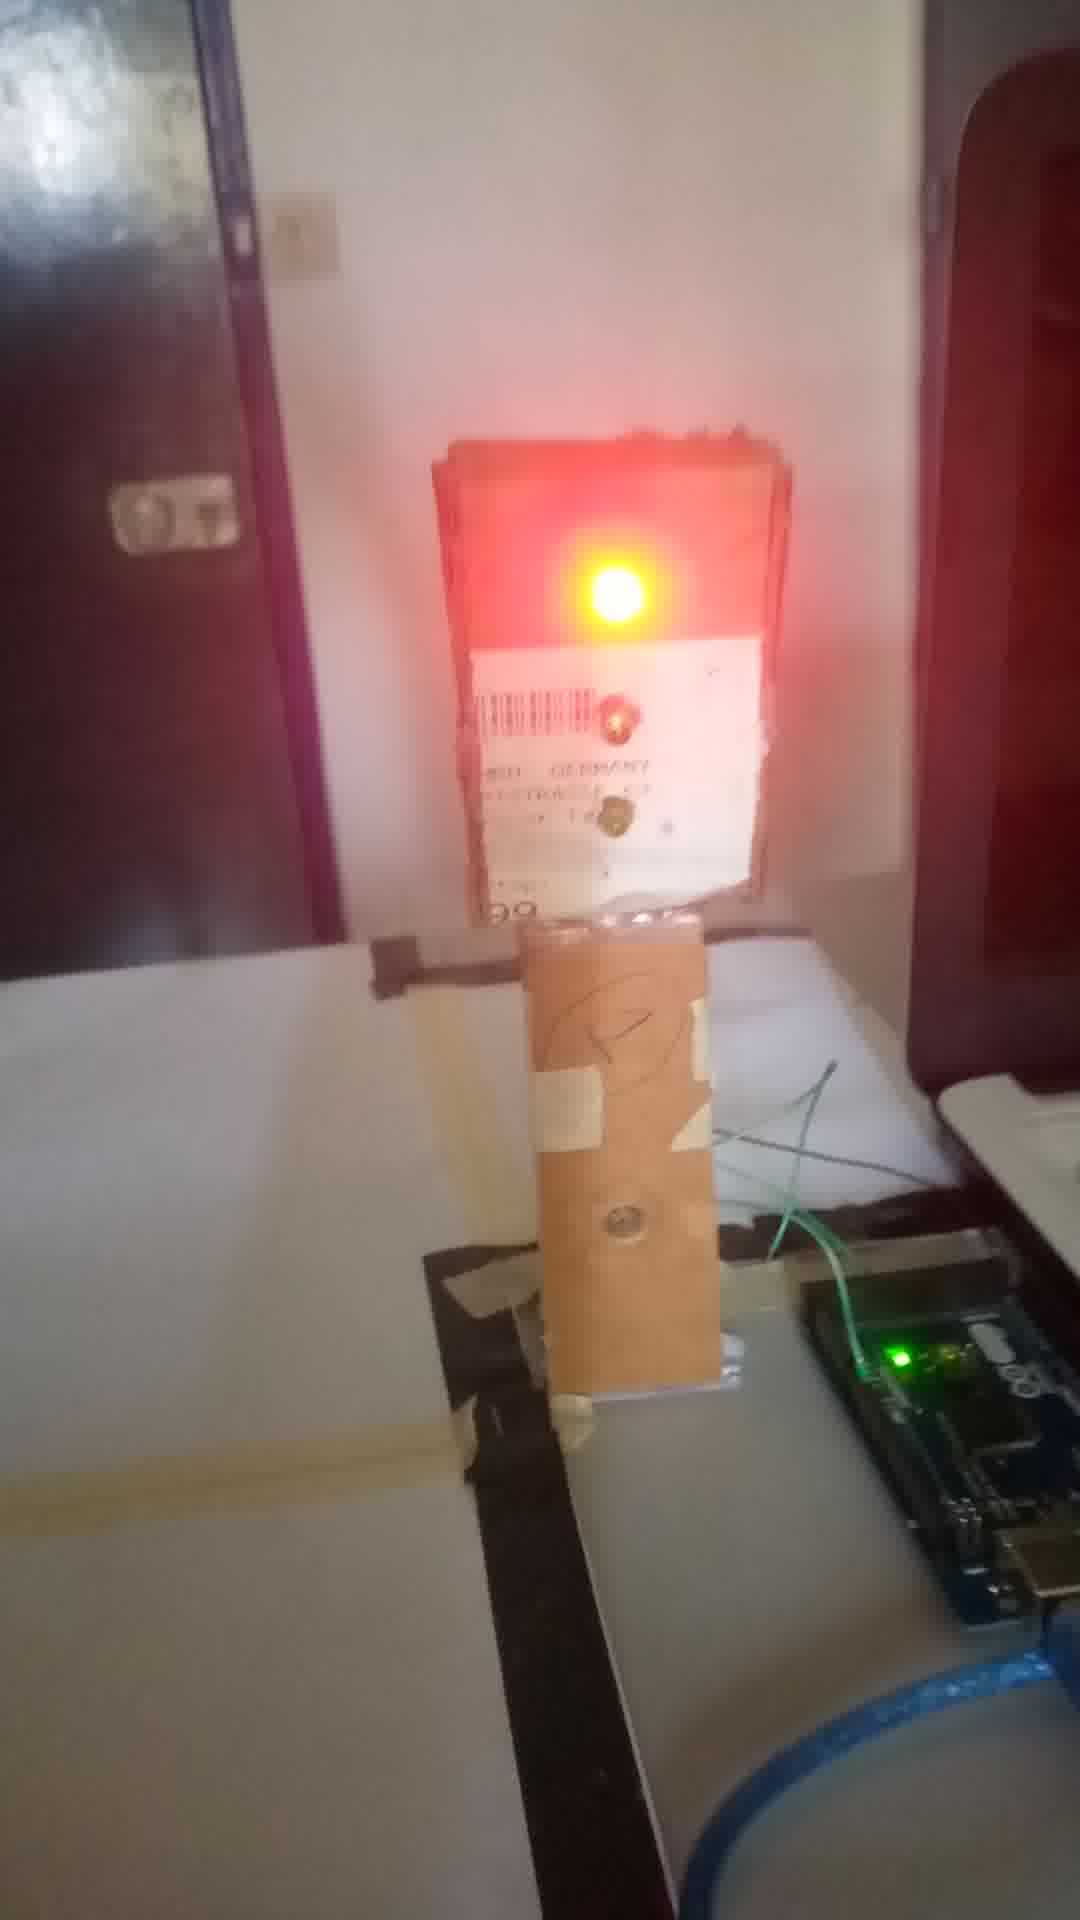red: (447, 454, 778, 909)
